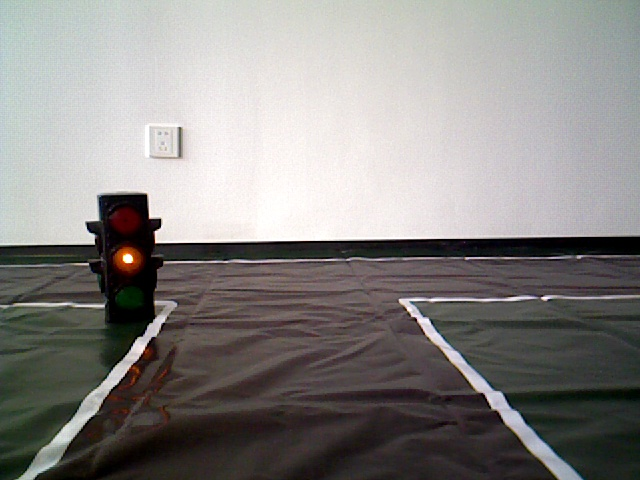yellow: (95, 197, 155, 304)
